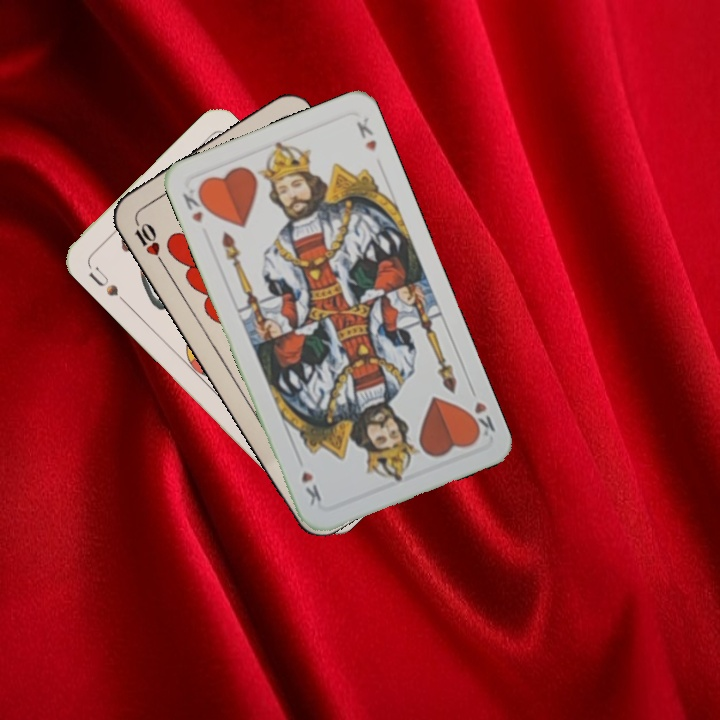H10: (130, 214, 167, 268)
HK: (462, 382, 498, 441), (178, 183, 212, 226)
SU: (84, 262, 130, 307)
